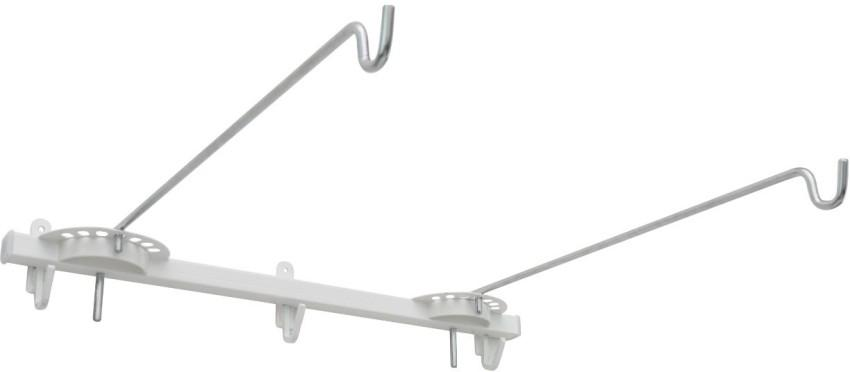Saline Stand: (1, 4, 847, 369)
